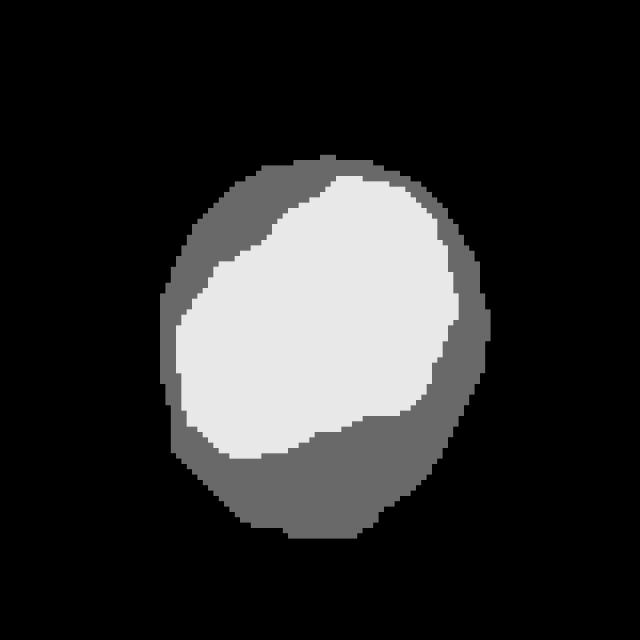WBC: (128, 122, 496, 570)
